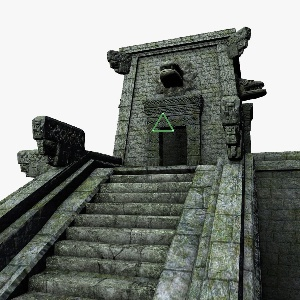triangle: (148, 110, 176, 137)
